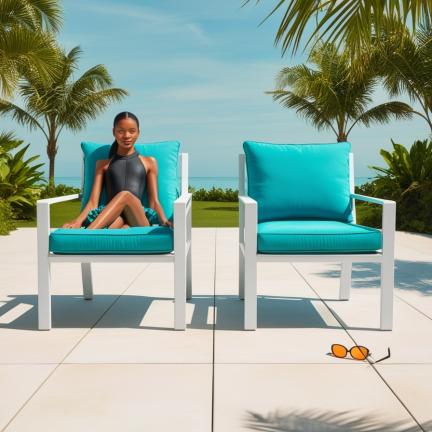empty chair: (239, 141, 396, 330)
guest on chair: (37, 112, 192, 330)
